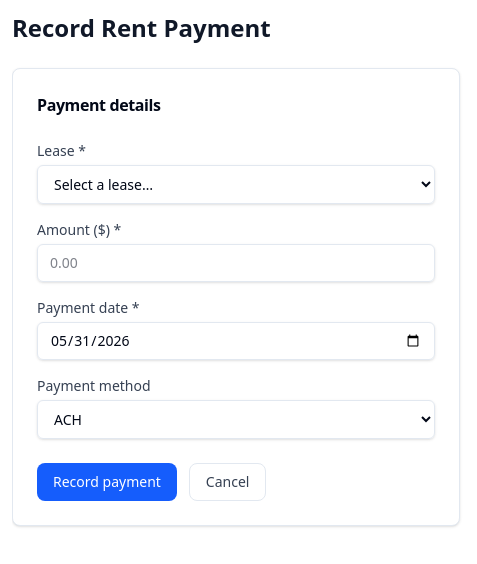
Test case: RentCollectionPage › shows confirmation view with audit-trail copy on successful submit
Select "Maria Santos — 150 Lexington Ct ($1,250/mo)" in the dropdown labelled "Lease *": [236, 184] box [37,165,435,204]
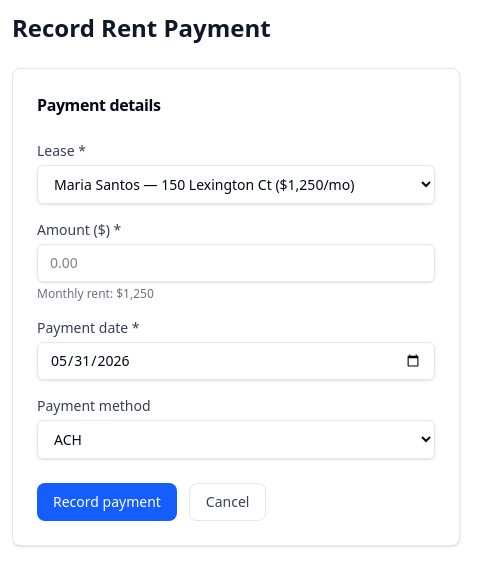
In the number field labelled "Amount ($) *": [236, 263] box [37,244,435,282], type "1250"
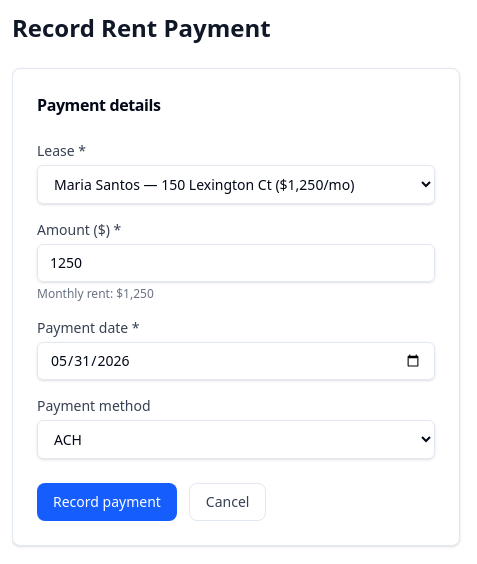
Submit the form named "record payment", box [37,141,435,521]
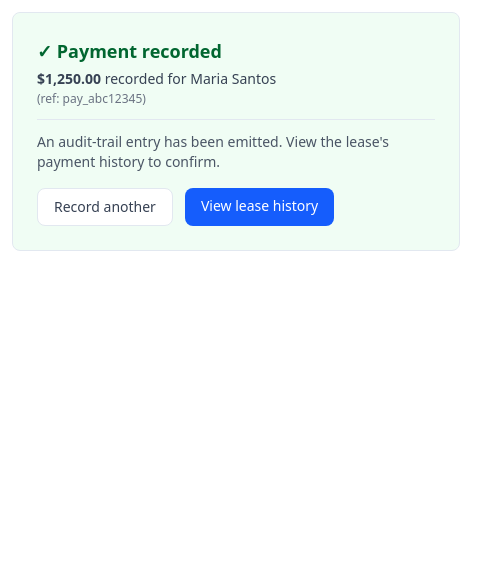
Result: the heading "✓ Payment recorded" is shown at [37,39,222,63]
Result: the text "audit-trail entry has been emitted" is shown at [37,132,389,171]
Result: the text "(ref: pay_abc12345)" is shown at [37,90,146,107]
